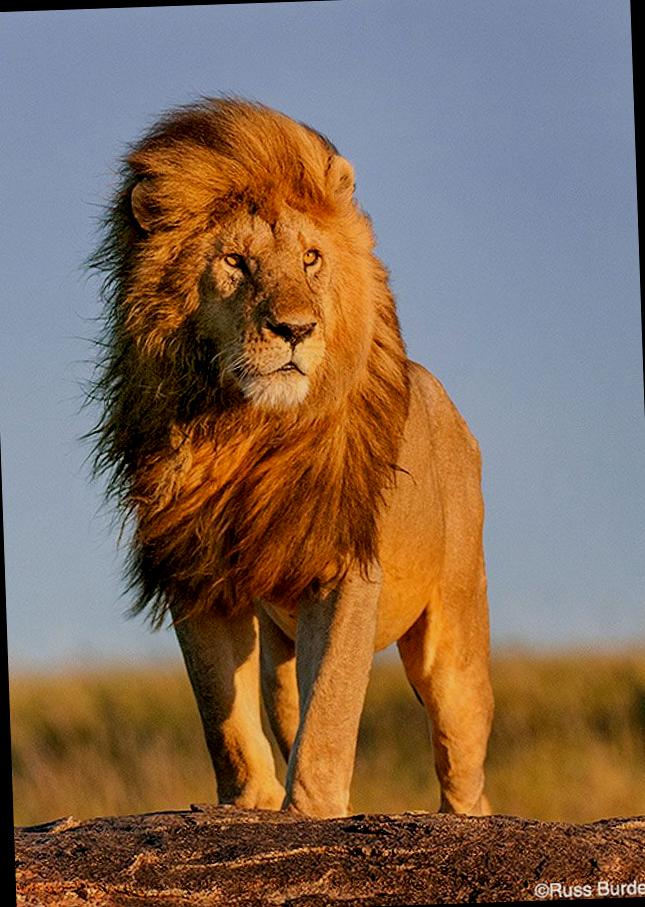lions: (8, 45, 645, 882)
